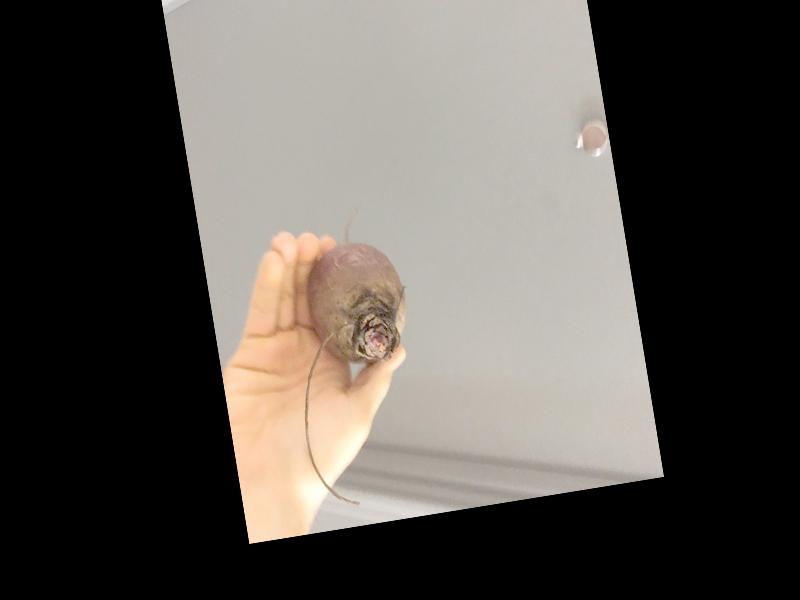Beet: (269, 202, 435, 509)
